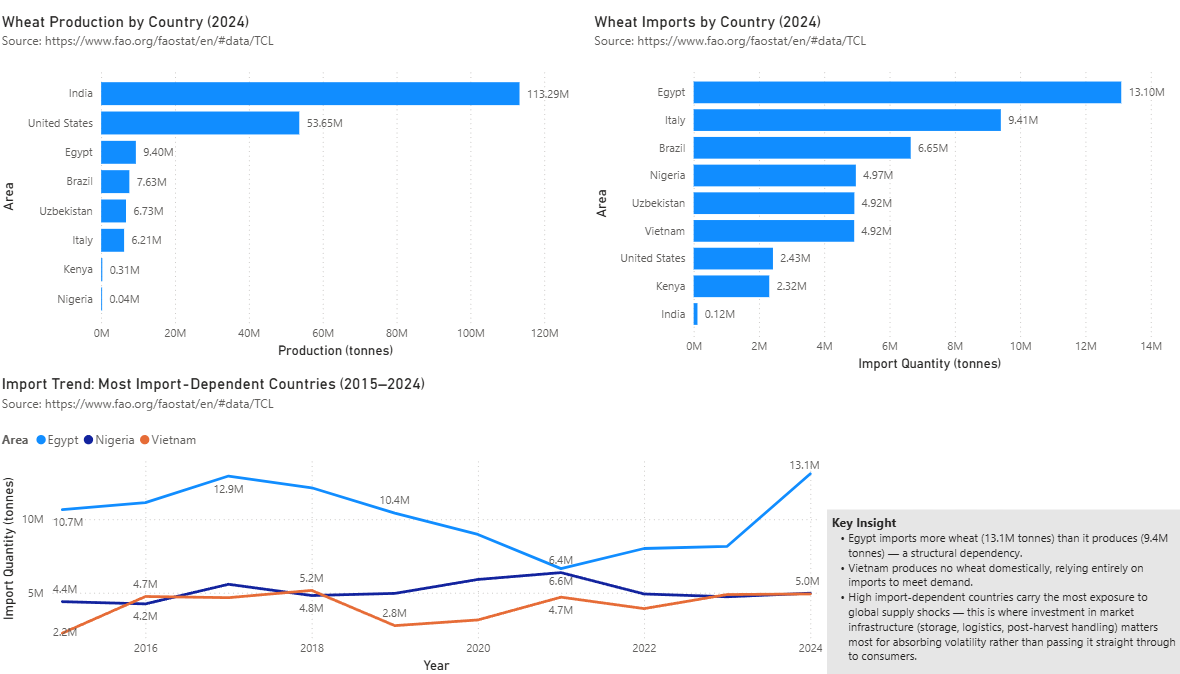

This screenshot's page, from the dashboard's own definition file:
{"tool":"powerbi","page":{"name":"Wheat Production & Trade","canvas":[1280,720],"ordinal":1},"visuals":[{"type":"clusteredBarChart","title":"Wheat Production by Country (2024)","fields":{"Category":["WheatProduction_Clean.Area"],"Y":["Sum(WheatProduction_Clean.Production_tonnes)"]},"box":[0,0,640,378.3],"z":0},{"type":"clusteredBarChart","title":"Wheat Imports by Country (2024)","fields":{"Category":["WheatTrade_Clean_Long.Area"],"Y":["Sum(WheatTrade_Clean_Long.Quantity_tonnes)"]},"box":[640,0,640,393.1],"z":1000},{"type":"lineChart","title":"Import Trend: Most Import-Dependent Countries (2015–2024)","fields":{"Category":["WheatTrade_Clean_Long.Year"],"Series":["WheatTrade_Clean_Long.Area"],"Y":["Sum(WheatTrade_Clean_Long.Quantity_tonnes)"]},"box":[0,392.5,897.5,327.5],"z":2000},{"type":"textbox","box":[897.5,538.5,382.8,182],"z":3000}]}

Visuals, with their boxes in screenshot pixels (x1, y1, x2, y2), scaled from the page's 1280x720 canvas onto the 1180x674 screenshot:
"Wheat Production by Country (2024)" clusteredBarChart: 0, 0, 590, 354
"Wheat Imports by Country (2024)" clusteredBarChart: 590, 0, 1179, 368
"Import Trend: Most Import-Dependent Countries (2015–2024)" lineChart: 0, 367, 827, 673
textbox: 827, 504, 1179, 673
